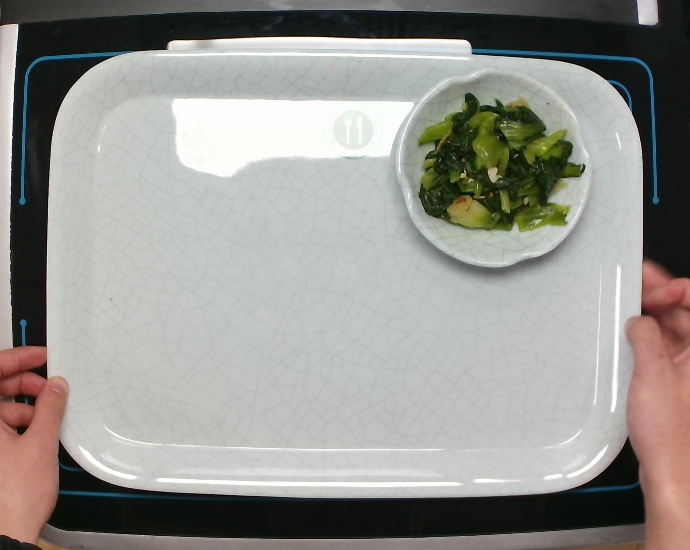JYsf-Ao_Yuan_Wan: (385, 65, 597, 276)
